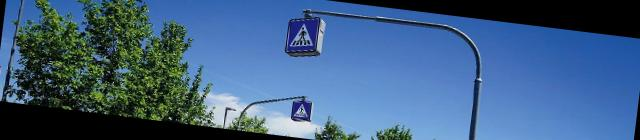crosswalk-sign: (285, 15, 327, 61), (292, 101, 314, 124)
